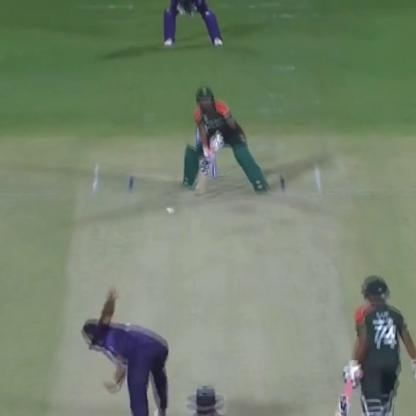ball: (159, 201, 178, 217)
bat: (323, 366, 361, 416), (192, 145, 216, 196)
pitch: (67, 163, 338, 415)
